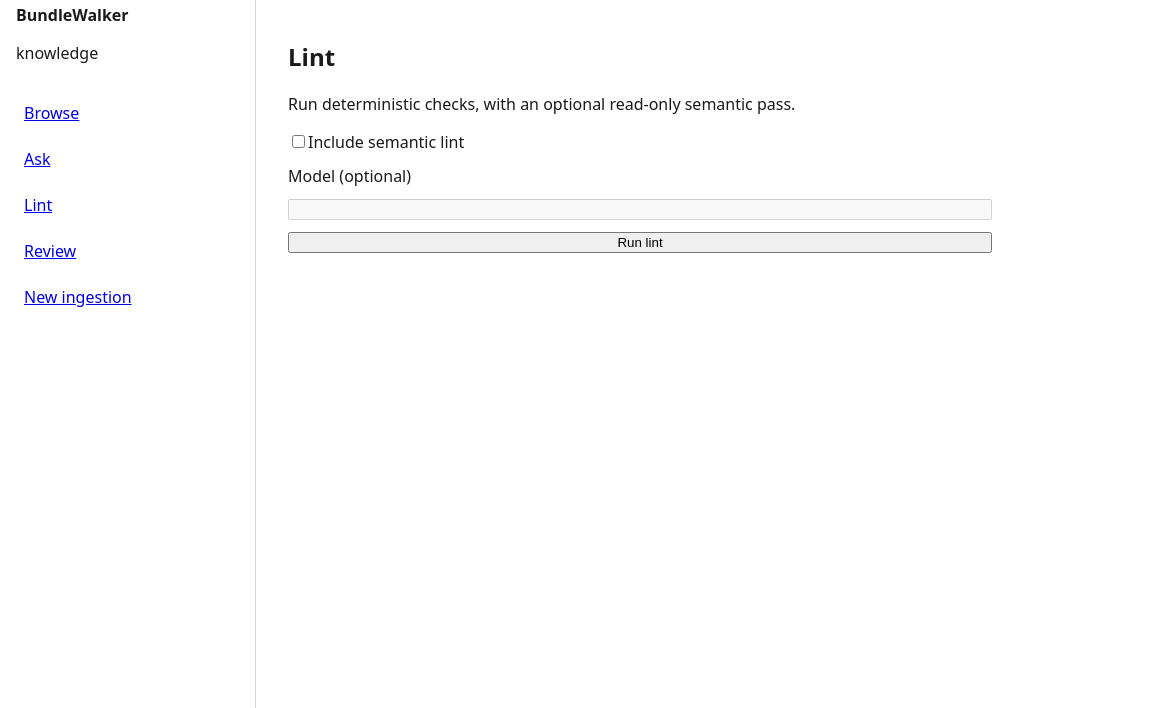
it: keeps null workspace scope distinct from a literal workspace path
Step 1. Click the button "Run lint" → (640, 242), box [288,232,992,253]
(page scrolled)
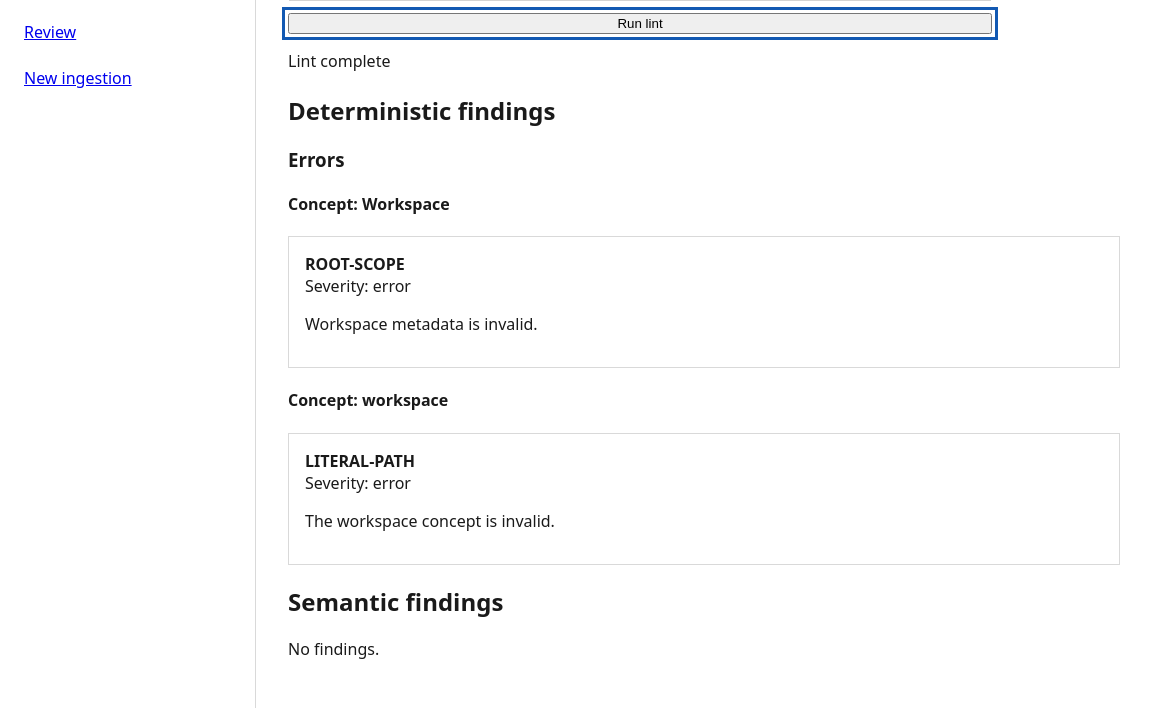
Expected: the element "Concept: Workspace" does not show "LITERAL-PATH"
Expected: the element "Concept: Workspace" shows "ROOT-SCOPE", [305,253,405,275]
Expected: the element "Concept: workspace" shows "LITERAL-PATH", [305,450,415,472]
